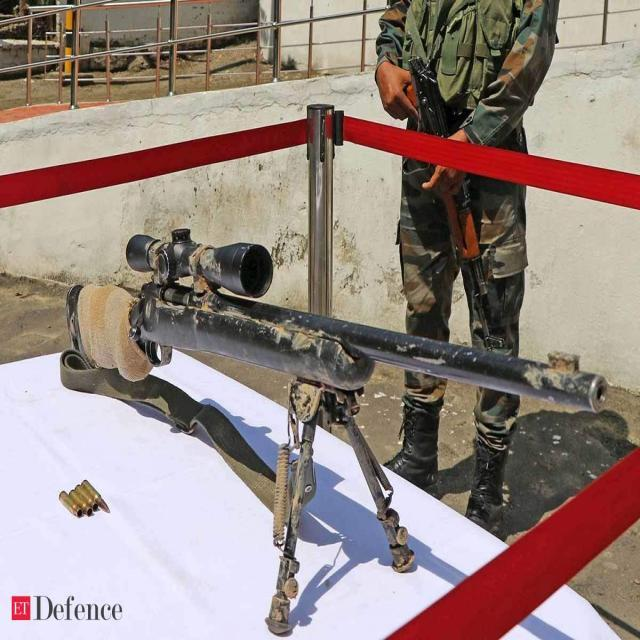rifle: (396, 35, 502, 328)
scope: (126, 223, 284, 287)
sniper rifle: (63, 225, 589, 622)
